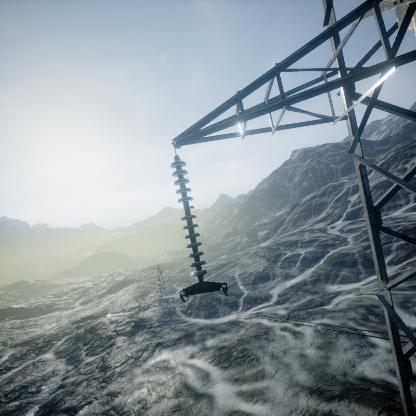insulator: (169, 152, 208, 280)
